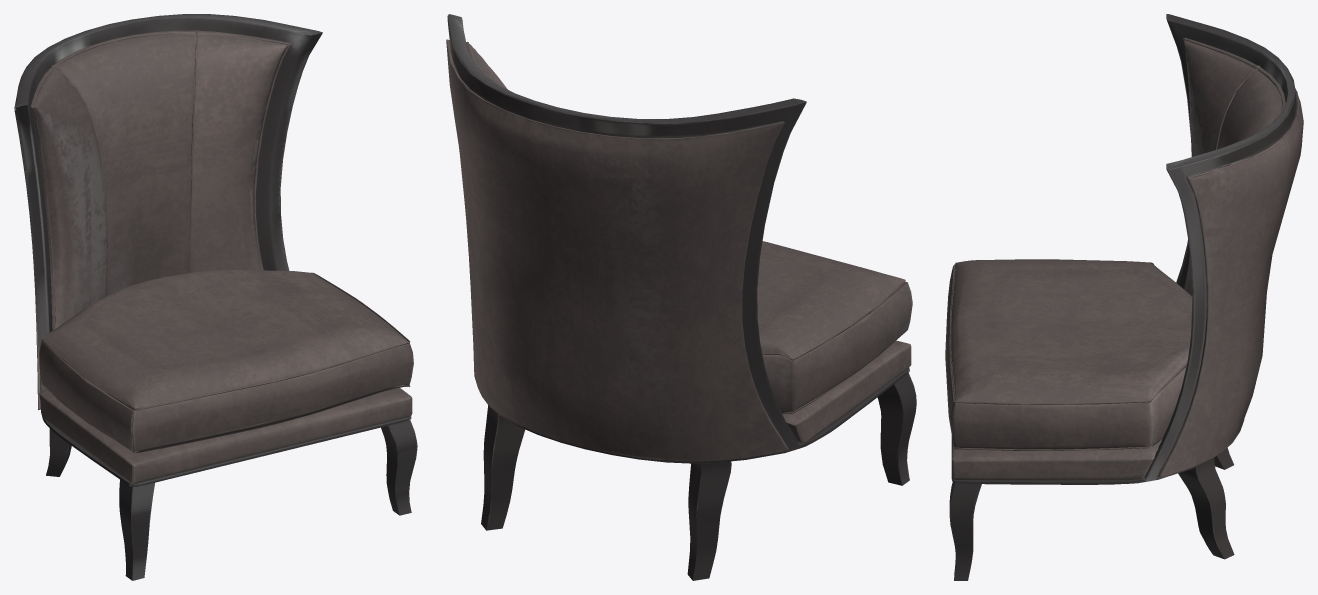
File: raw_model.obj
3 renders of one model, left to right at view 1: azimuth 30°, elevation 25°; view 2: azimuth 150°, elevation 25°; view 3: azimuth 270°, elevation 25°, orthographic. The views are drawn at different scales.
Parts seen in each view (by area): view 1: solid_002, solid_001; view 2: solid_002, solid_001; view 3: solid_002, solid_001.
Boxes of the visible parts, x1,y1,x2,y2 form: solid_002: (14, 29, 413, 483); solid_001: (15, 14, 417, 580); solid_002: (446, 39, 912, 461); solid_001: (447, 14, 916, 580); solid_002: (945, 37, 1303, 479); solid_001: (949, 14, 1296, 580).
Bounding box in the file's own units: 0.8965 × 1.12 × 0.8725.
Materials: 1 (1 with a texture image).
